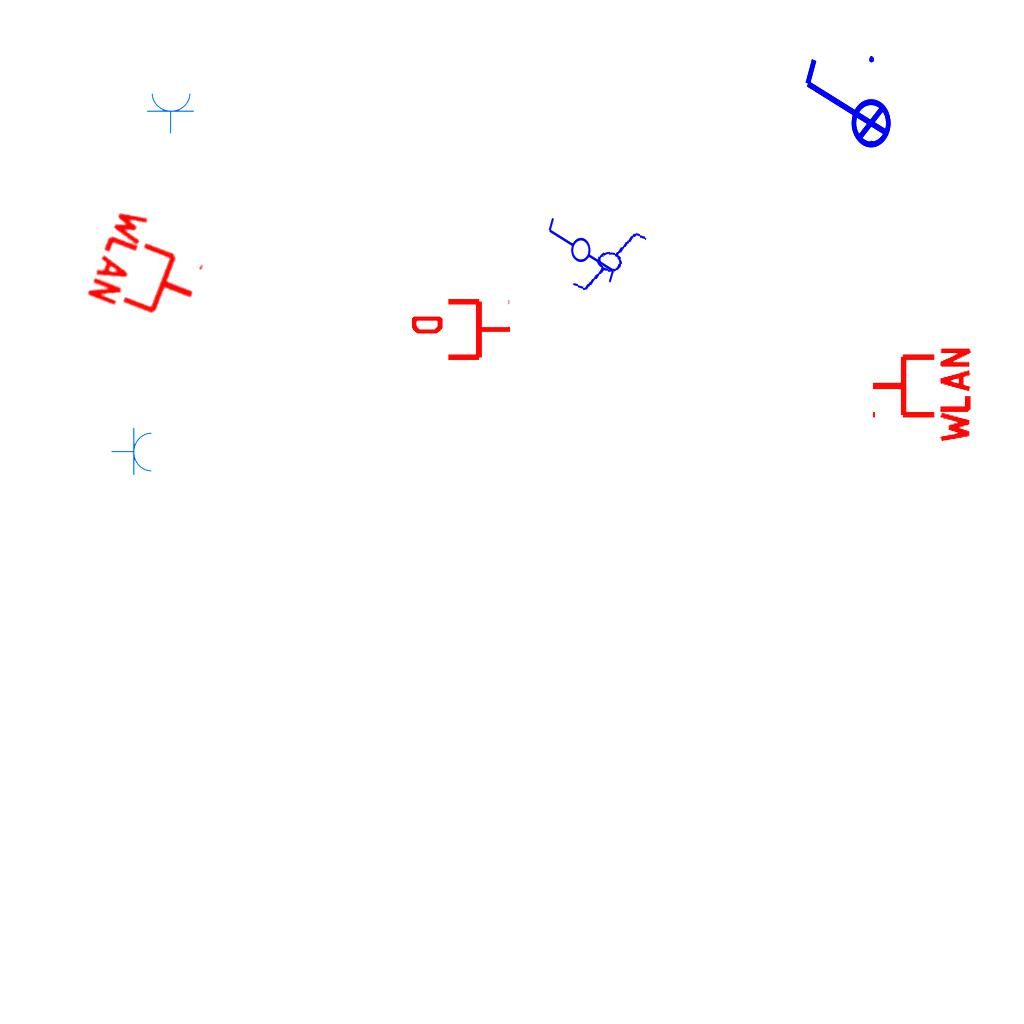Ausschalter_beleuchtet: (797, 50, 893, 162)
Datenanschluss_einfach: (412, 295, 512, 364)
Schukosteckdose_einfach: (111, 427, 154, 477), (146, 91, 196, 134)
WLAN: (82, 201, 219, 337), (868, 343, 973, 447)
Wechselschalter: (561, 217, 651, 303), (546, 207, 618, 285)
